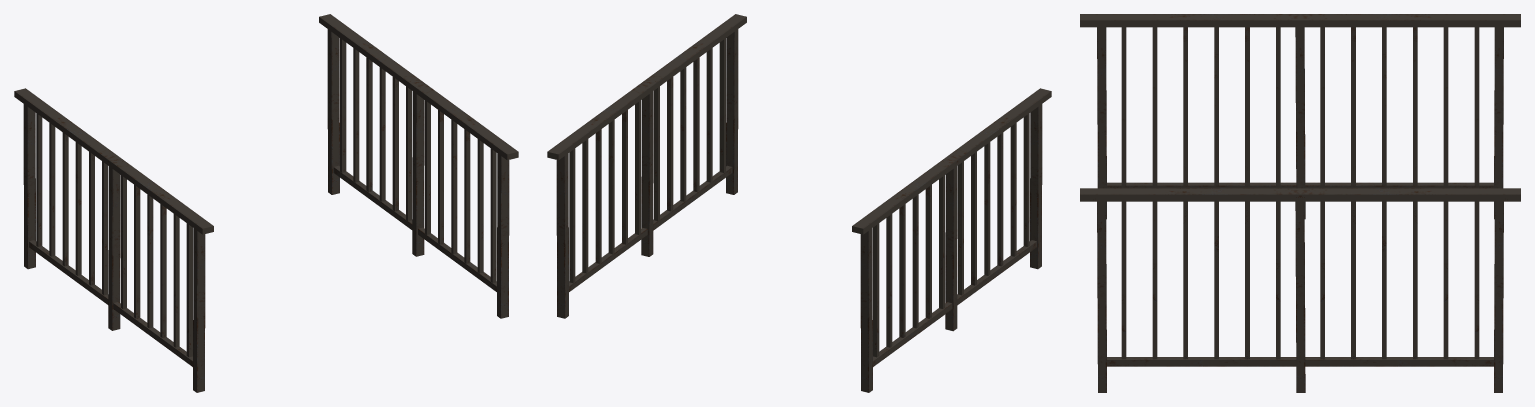
The model's file is Stairs_Rails_Metal_Straight_2.gltf.
3 views of the same model, side by side, from view 1: azimuth 30°, elevation 25°; view 2: azimuth 150°, elevation 25°; view 3: azimuth 270°, elevation 25° (orthographic). The views are drawn at different scales.
Visible parts, largest first — view 1: Stairs_Rails_Metal_Straight_2; view 2: Stairs_Rails_Metal_Straight_2; view 3: Stairs_Rails_Metal_Straight_2.
Part boxes in pixels (<box>): Stairs_Rails_Metal_Straight_2: <box>14,14,518,392</box>; Stairs_Rails_Metal_Straight_2: <box>547,14,1051,392</box>; Stairs_Rails_Metal_Straight_2: <box>1080,14,1520,392</box>.
Bounding box in the file's own units: 1.94 × 0.9981 × 2.
Materials: 1 (1 with a texture image).
